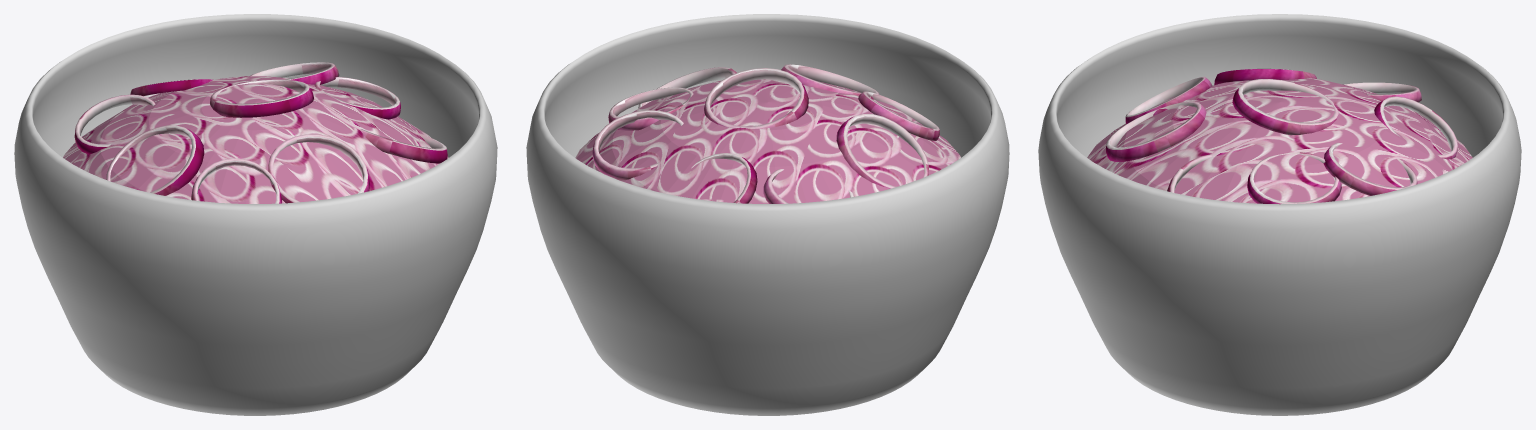
File: onion_bowl.fbx
3 renders of one model, left to right at view 1: azimuth 30°, elevation 25°; view 2: azimuth 150°, elevation 25°; view 3: azimuth 270°, elevation 25°, orthographic.
Visible parts, largest first — view 1: Sphere, Sphere.001, onion.006, onion.002, onion.003, onion.005, onion.008, onion.001, onion.004, onion, onion.007; view 2: Sphere, Sphere.001, onion.006, onion.002, onion.004, onion, onion.005, onion.008, onion.003, onion.007; view 3: Sphere, Sphere.001, onion.006, onion.005, onion, onion.004, onion.007, onion.008, onion.002, onion.001.
Part boxes in pixels (x1,y1,x2,y2): Sphere: (14,14,497,415); Sphere.001: (63,76,448,203); onion.006: (210,79,313,117); onion.002: (106,125,204,195); onion.003: (359,129,447,163); onion.005: (268,134,369,203); onion.008: (314,77,400,119); onion.001: (74,94,155,154); onion.004: (250,62,339,84); onion: (191,158,281,203); onion.007: (130,79,213,97); Sphere: (526,14,1009,415); Sphere.001: (575,79,960,203); onion.006: (704,68,808,128); onion.002: (836,114,928,188); onion.004: (592,110,683,180); onion: (858,91,939,140); onion.005: (781,64,878,99); onion.008: (608,87,693,130); onion.003: (638,67,736,108); onion.007: (691,153,757,203); Sphere: (1038,14,1521,415); Sphere.001: (1087,78,1472,203); onion.006: (1232,79,1338,135); onion.005: (1106,101,1206,161); onion: (1125,76,1212,123); onion.004: (1323,142,1417,195); onion.007: (1374,96,1457,159); onion.008: (1247,152,1341,204); onion.002: (1214,68,1316,84); onion.001: (1344,82,1421,102).
Bounding box in the file's own units: 39.86 × 23.87 × 39.86.
11 materials, 10 textured.
